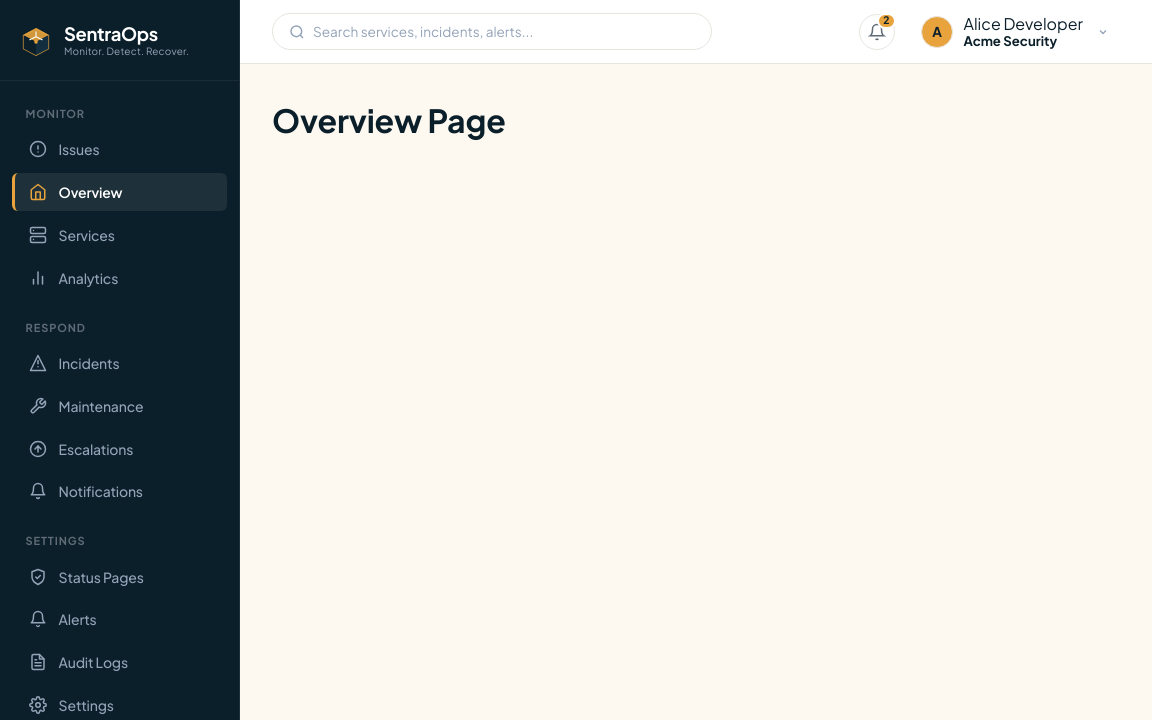
it: Navigation & AppShell Components › OrgUserMenu renders session user data, org name, role badge, and handles logout
Expected: the text "Alice Developer" is shown, [964,15,1083,33]
Expected: the text "Acme Security" is shown, [964,32,1057,49]
// Open menu popover
Click the button with aria-label "user and organization menu". click: point(1015, 32)
box: [910,8,1120,55]
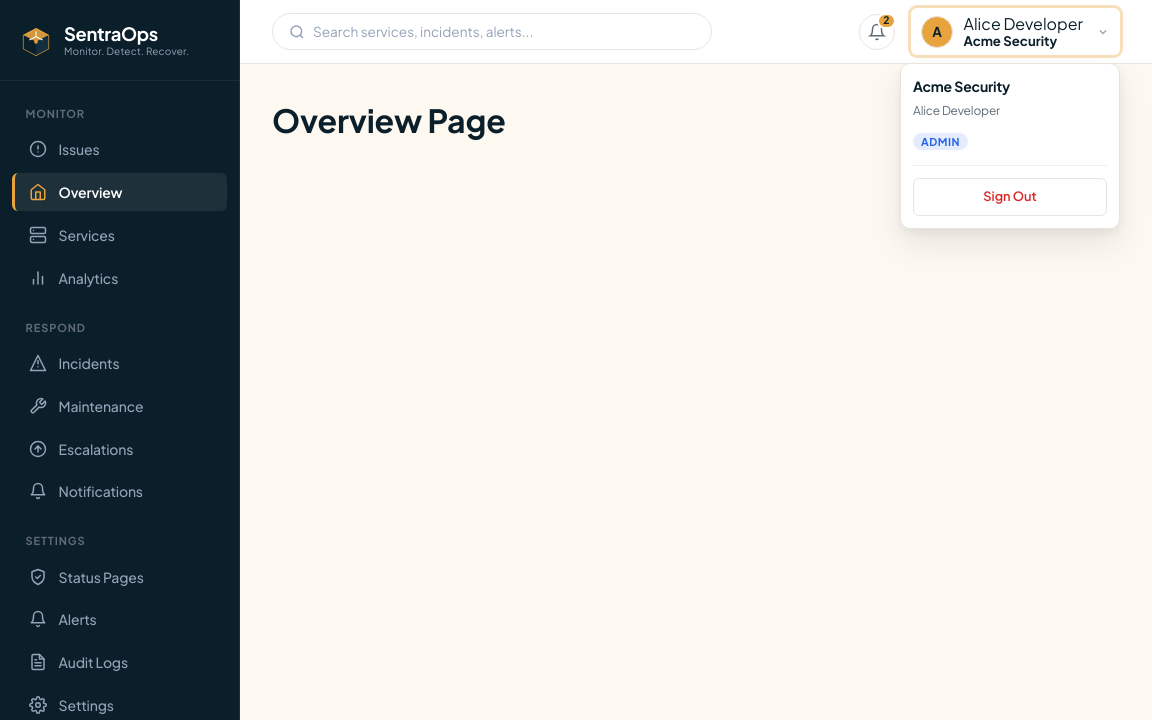
Expected: the menu is shown, [900,63,1120,229]
Expected: the text "admin" is shown, [913,133,968,150]
Expected: the menu item "Sign Out" is shown, [913,178,1107,216]
